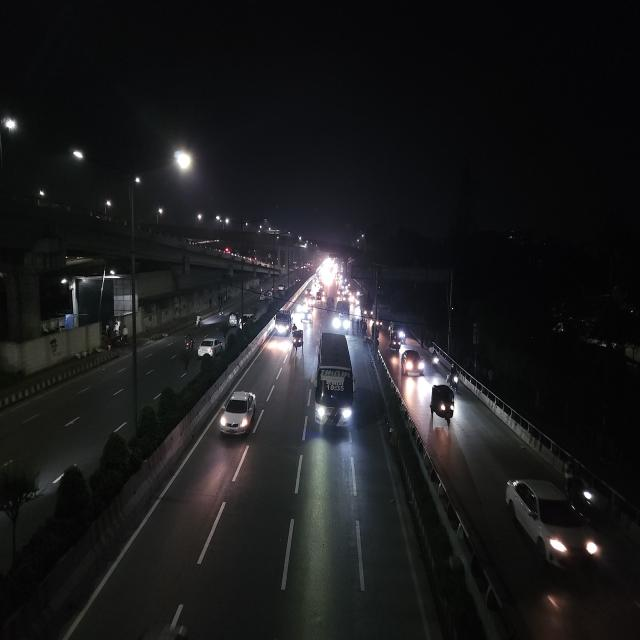bus: (312, 328, 356, 436), (333, 299, 351, 331)
car: (502, 472, 604, 578), (216, 387, 258, 442), (400, 347, 424, 381), (196, 336, 223, 360), (274, 309, 294, 338), (304, 289, 312, 299)
cng: (427, 382, 457, 427), (291, 326, 305, 352), (388, 331, 401, 356), (228, 312, 238, 328)
motorcycle: (562, 464, 598, 511), (446, 368, 460, 391), (182, 332, 194, 353), (430, 349, 440, 372), (193, 312, 203, 328), (217, 306, 224, 319)
pedestrian: (356, 317, 360, 335), (351, 317, 355, 332)
